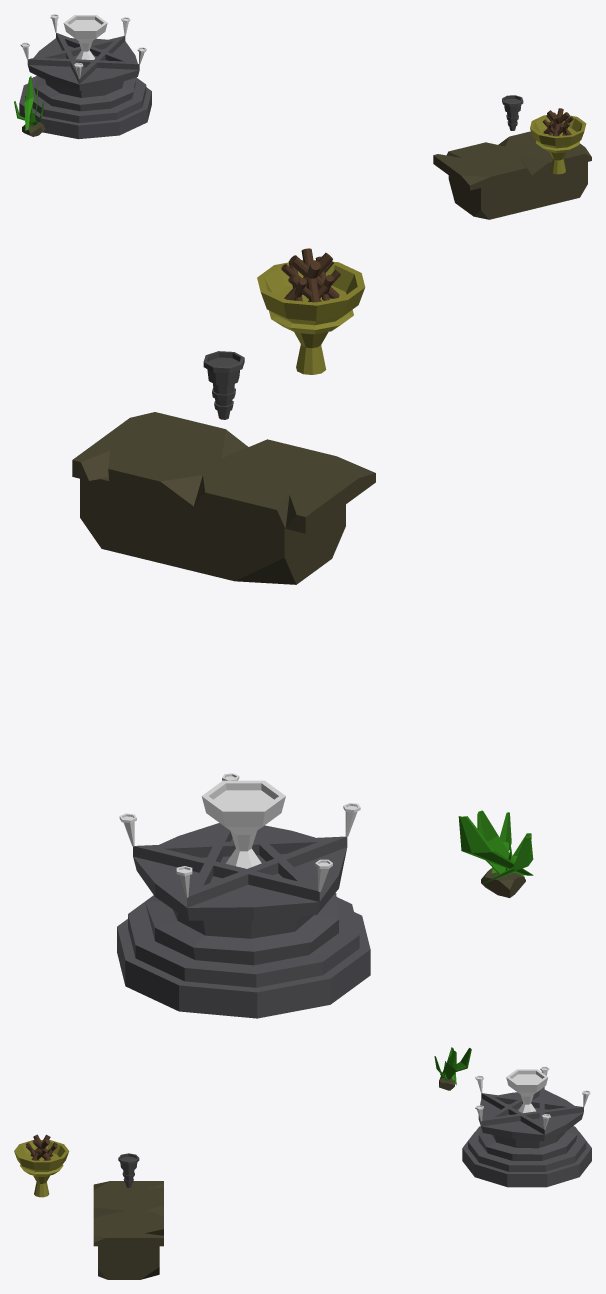
The model's file is assets2.fbx.
3 views of the same model, one above another, from view 1: azimuth 30°, elevation 25°; view 2: azimuth 150°, elevation 25°; view 3: azimuth 270°, elevation 25° (orthographic). The views are drawn at different scales.
Visible parts, largest first — view 1: Cylinder.035, Cube.118, Cube.104, Cylinder.031, Cylinder.036, Cylinder.030, Cylinder.033, Plane.003; view 2: Cylinder.035, Cube.118, Cube.104, Cylinder.031, Cylinder.036, Cylinder.030, Plane.003, Cylinder.033; view 3: Cylinder.035, Cube.118, Cube.104, Cylinder.031, Cylinder.036, Cylinder.030.
Boxes of the visible parts, x1,y1,x2,y2 form: Cylinder.035: [19, 33, 151, 139]; Cube.118: [433, 131, 591, 190]; Cube.104: [448, 162, 587, 219]; Cylinder.031: [530, 114, 586, 174]; Cylinder.036: [63, 15, 107, 59]; Cylinder.030: [502, 95, 523, 130]; Cylinder.033: [543, 108, 571, 136]; Plane.003: [24, 76, 33, 130]; Cylinder.035: [117, 823, 370, 1018]; Cube.118: [72, 412, 375, 533]; Cube.104: [80, 477, 345, 584]; Cylinder.031: [257, 259, 365, 374]; Cylinder.036: [201, 780, 285, 868]; Cylinder.030: [203, 351, 244, 419]; Plane.003: [458, 816, 533, 875]; Cylinder.033: [284, 248, 339, 302]; Cylinder.035: [462, 1087, 591, 1187]; Cube.118: [93, 1181, 163, 1246]; Cube.104: [98, 1246, 159, 1279]; Cylinder.031: [14, 1140, 69, 1197]; Cylinder.036: [506, 1069, 548, 1113]; Cylinder.030: [118, 1153, 139, 1187].
Size of the model in its own units: 4261 by 1373 by 5710.
